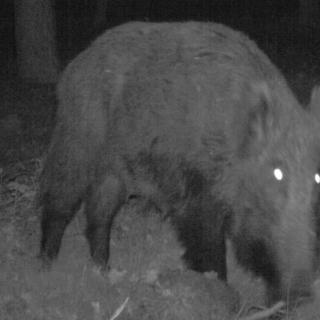Pig: (32, 0, 320, 300)
